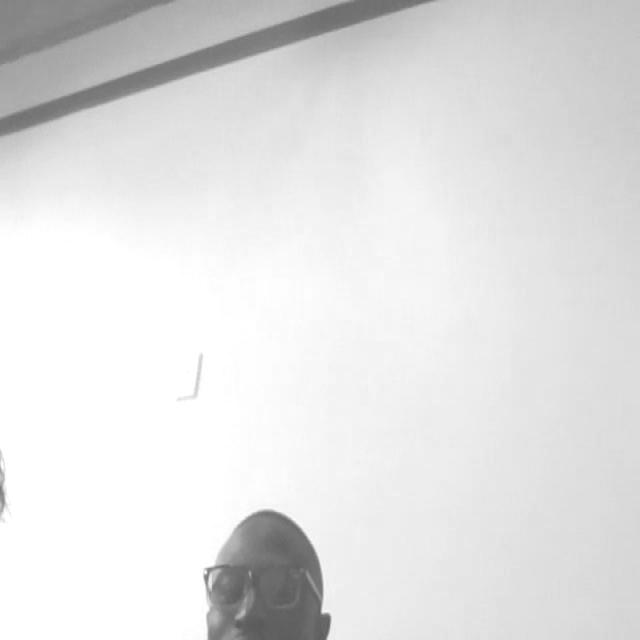real: (204, 508, 332, 640)
